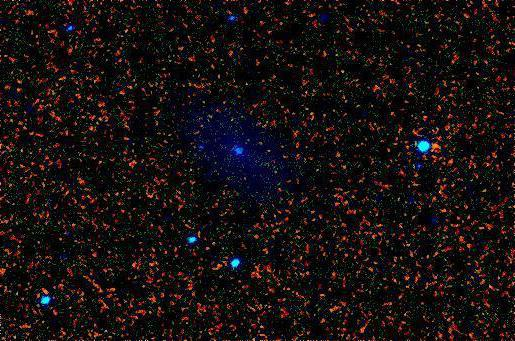star: (422, 130, 452, 160)
